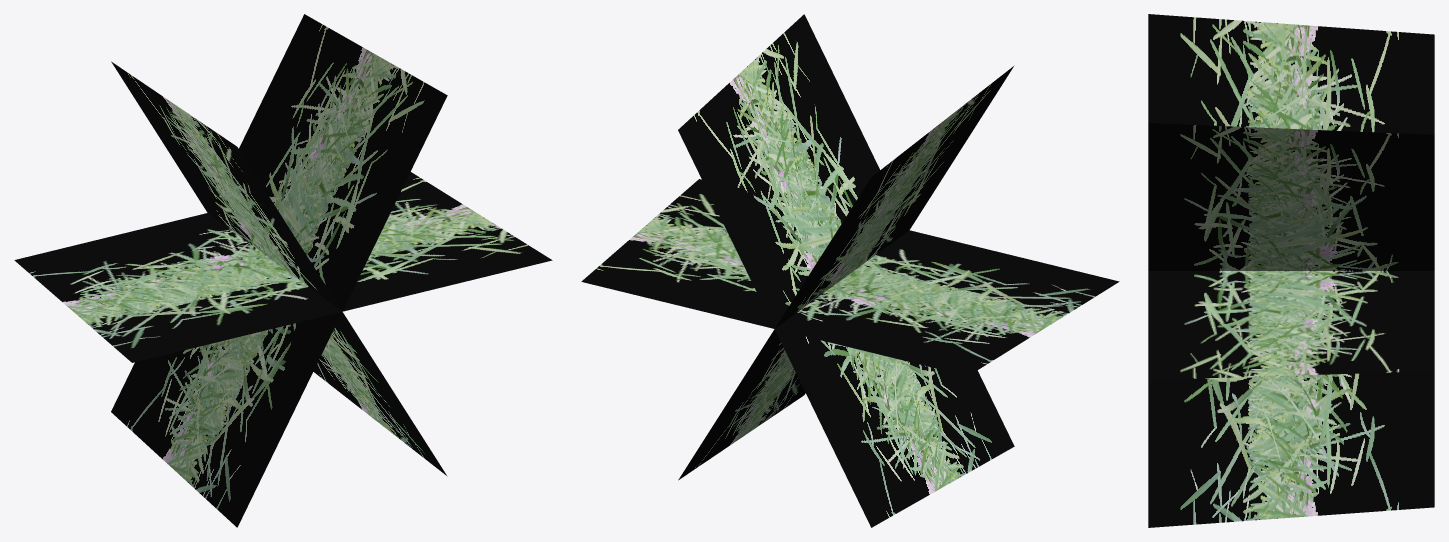
Rendered from GrassCard_Duo.glb.
The picture shows the model from 3 angles, left to right: view 1: azimuth 30°, elevation 25°; view 2: azimuth 150°, elevation 25°; view 3: azimuth 270°, elevation 25°; orthographic projection. The views are drawn at different scales.
Visible parts, largest first — view 1: GrassCard_Duo; view 2: GrassCard_Duo; view 3: GrassCard_Duo.
Part boxes in pixels (x1,y1,x2,y2): GrassCard_Duo: [14, 14, 552, 527]; GrassCard_Duo: [581, 14, 1119, 527]; GrassCard_Duo: [1148, 14, 1434, 527].
Size of the model in its own units: 0.18 by 0.1559 by 0.1.
1 material, 1 textured.
